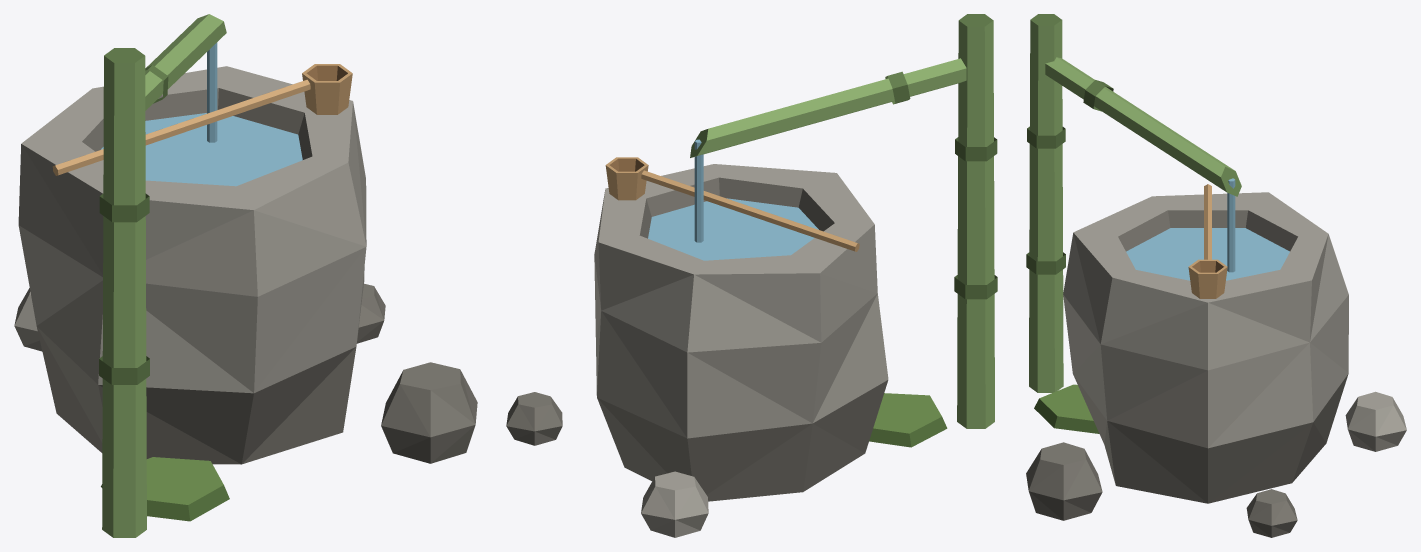
The model's file is sakura_garden_water_basin.glb.
3 renders of one model, left to right at view 1: azimuth 30°, elevation 25°; view 2: azimuth 150°, elevation 25°; view 3: azimuth 270°, elevation 25°, orthographic. The views are drawn at different scales.
Parts seen in each view (by area): view 1: sakura_garden_water_basin; view 2: sakura_garden_water_basin; view 3: sakura_garden_water_basin.
Boxes of the visible parts, <box> form: sakura_garden_water_basin: <box>14,14,477,537</box>; sakura_garden_water_basin: <box>506,14,997,537</box>; sakura_garden_water_basin: <box>1026,14,1406,537</box>.
Size of the model in its own units: 0.6581 by 0.7 by 0.659.
1 material, 1 textured.
